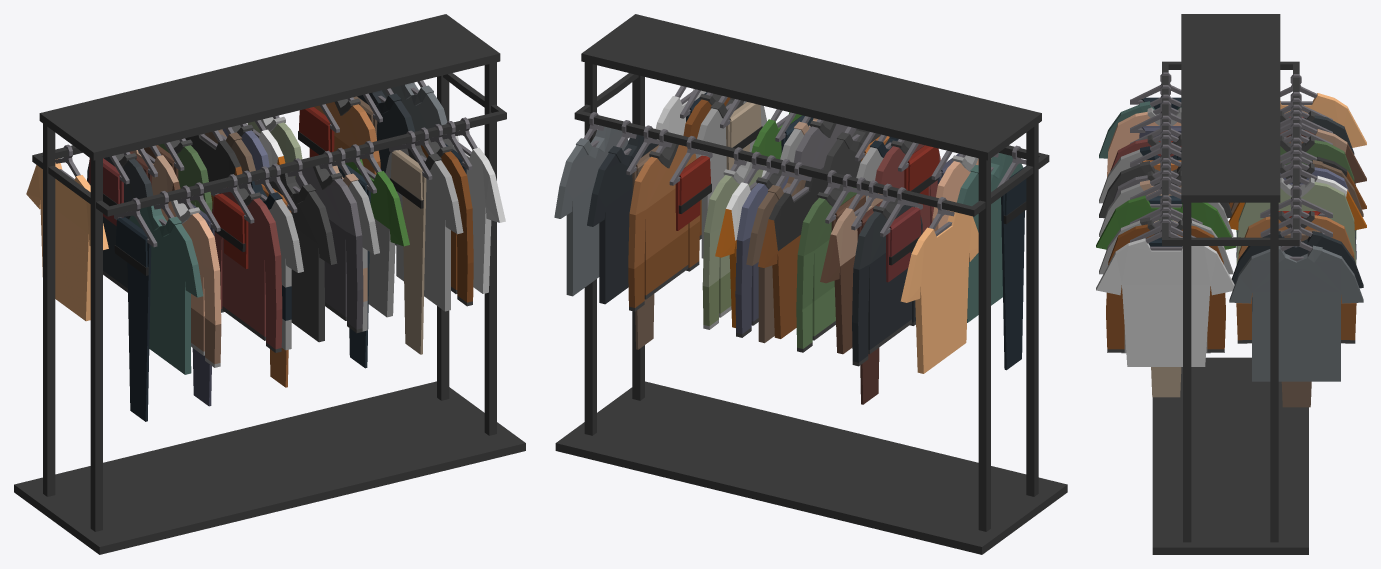
The model's file is SM_Props_Rack_07.fbx.
3 views of the same model, side by side, from view 1: azimuth 30°, elevation 25°; view 2: azimuth 150°, elevation 25°; view 3: azimuth 270°, elevation 25° (orthographic). The views are drawn at different scales.
Visible parts, largest first — view 1: SM_Props_Rack_07; view 2: SM_Props_Rack_07; view 3: SM_Props_Rack_07.
Part boxes in pixels (bbox=[...]): SM_Props_Rack_07: bbox=[14, 14, 525, 554]; SM_Props_Rack_07: bbox=[554, 14, 1067, 554]; SM_Props_Rack_07: bbox=[1096, 14, 1366, 554].
Size of the model in its own units: 2 by 1.74 by 1.2.
